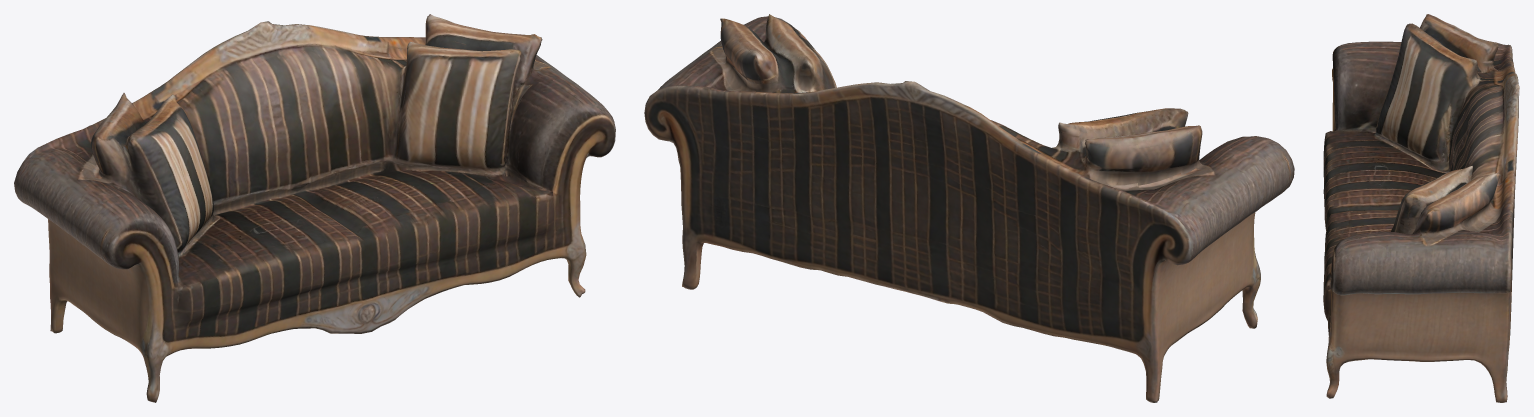
The model's file is striped_sofa.glb.
3 renders of one model, left to right at view 1: azimuth 30°, elevation 25°; view 2: azimuth 150°, elevation 25°; view 3: azimuth 270°, elevation 25°, orthographic. The views are drawn at different scales.
Visible parts, largest first — view 1: Object_4; view 2: Object_4; view 3: Object_4.
Boxes of the visible parts, bbox=[...] form: Object_4: bbox=[14, 14, 615, 402]; Object_4: bbox=[644, 14, 1294, 402]; Object_4: bbox=[1323, 14, 1519, 402].
Size of the model in its own units: 2 by 0.9471 by 0.7481.
Materials: 1 (1 with a texture image).
